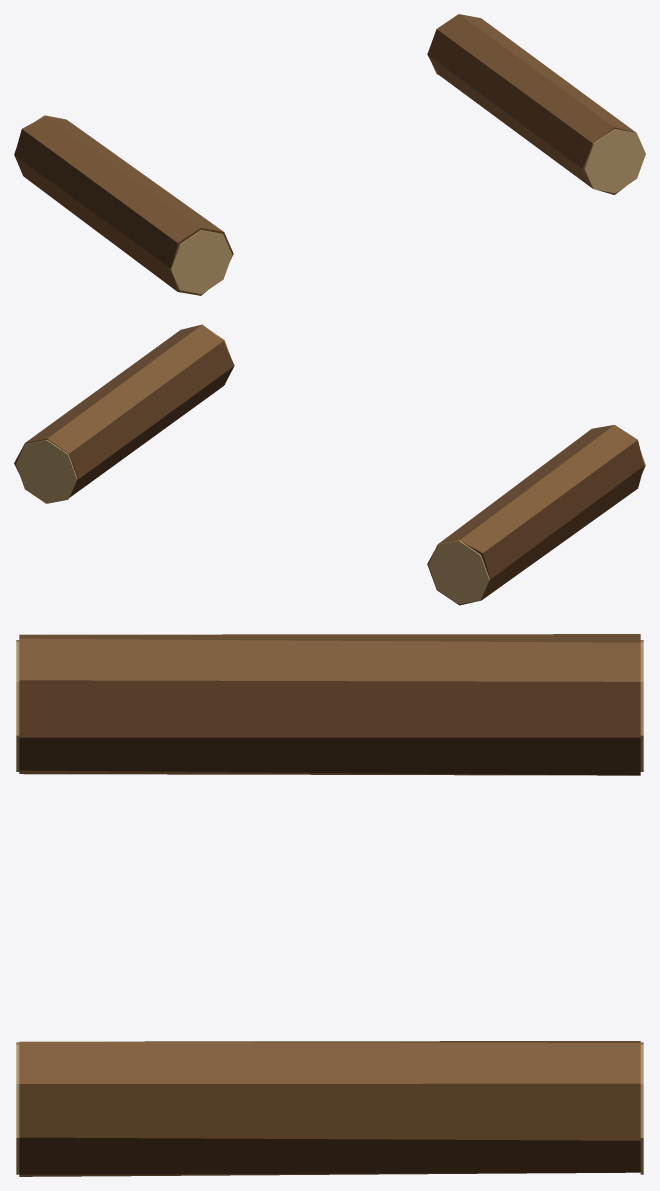
Rendered from sitlog.glb.
3 views of the same model, one above another, from view 1: azimuth 30°, elevation 25°; view 2: azimuth 150°, elevation 25°; view 3: azimuth 270°, elevation 25° (orthographic). The views are drawn at different scales.
Visible parts, largest first — view 1: base; view 2: base; view 3: base.
Boxes of the visible parts, left/top/right/bottom form: base: left=14, top=14, right=645, bottom=295; base: left=14, top=324, right=645, bottom=605; base: left=16, top=634, right=643, bottom=1176.
Bounding box in the file's own units: 1.06 × 0.1448 × 0.606.
